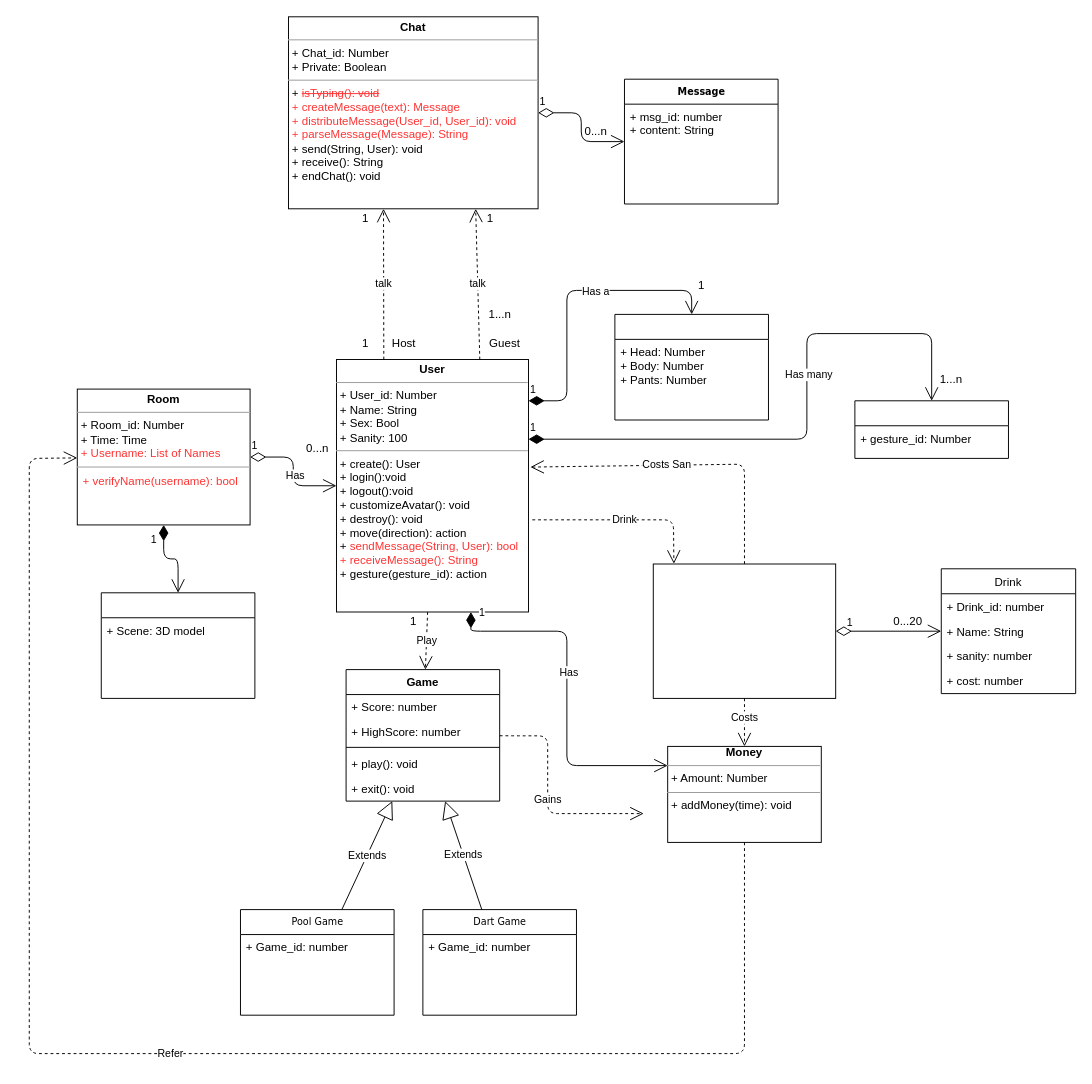
Image size: 1092x1084. Some labels were removed from this diagram. The box of each missing label's shape, as (x1, y1, x2, y2) in pixels:
Avatar_Object: (614, 313, 768, 420)
Bar + drink(Drink_id): void: (652, 563, 836, 698)
Environment: (100, 592, 255, 698)
Gestures: (854, 400, 1008, 458)
